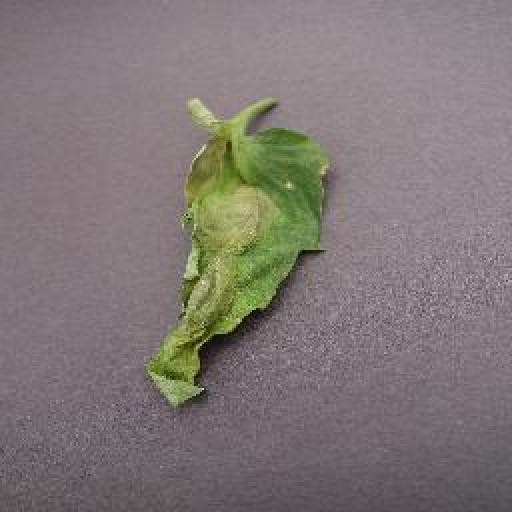Late Blight: (145, 100, 331, 411)
